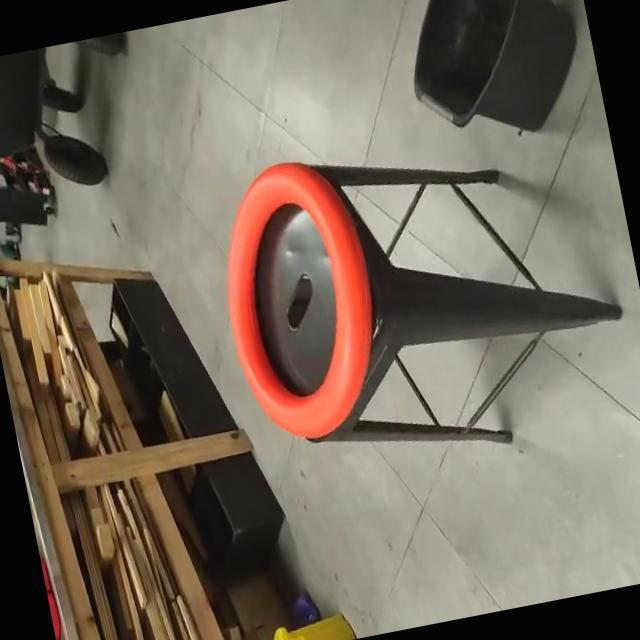note: (200, 146, 400, 452)
